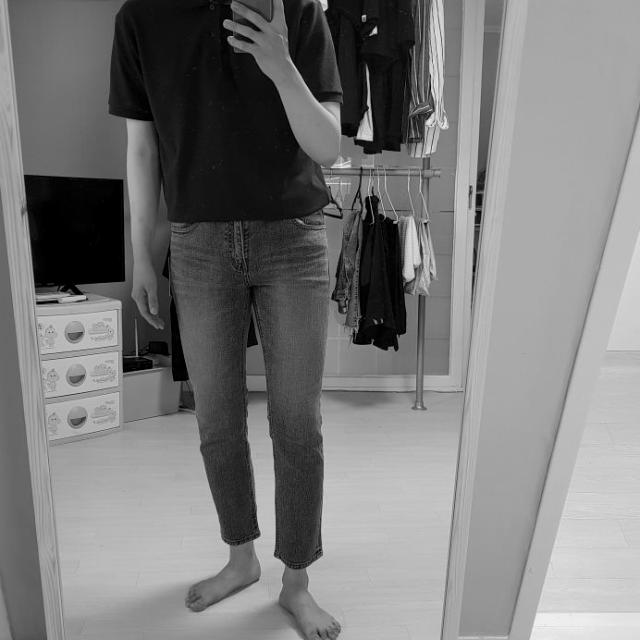denimpants: (170, 217, 330, 567)
shortsleeve: (108, 0, 343, 226)
